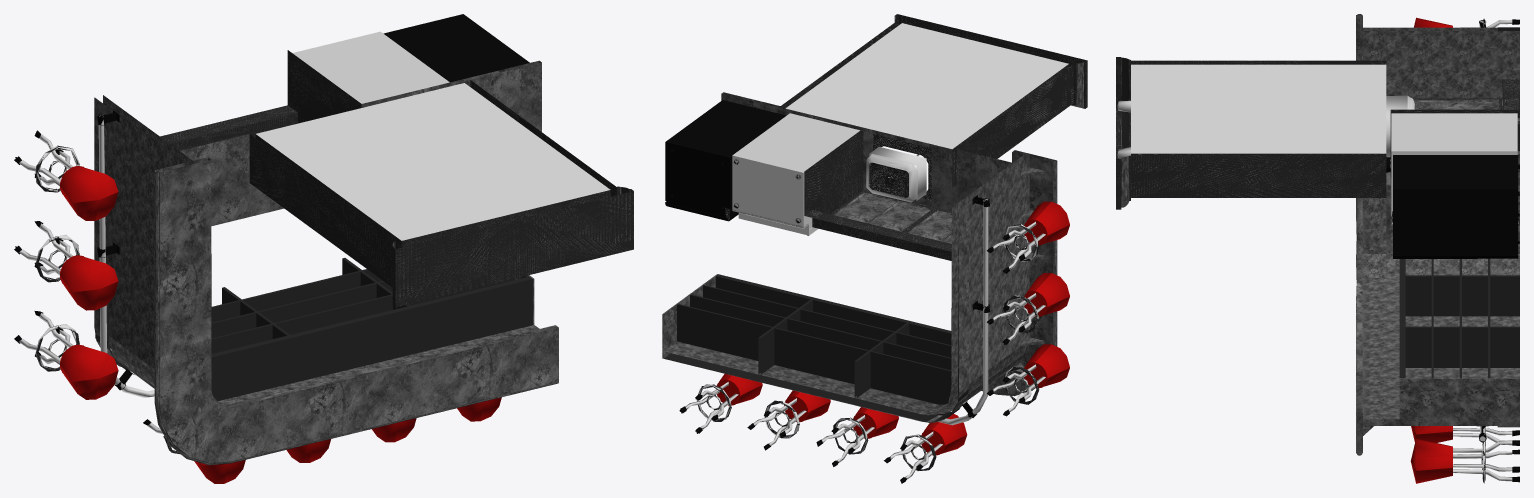
Rendered from CasinoBare.fbx.
3 views of the same model, side by side, from view 1: azimuth 30°, elevation 25°; view 2: azimuth 150°, elevation 25°; view 3: azimuth 270°, elevation 25° (orthographic). The views are drawn at different scales.
Parts seen in each view (by area): view 1: Material2.105; view 2: Material2.105; view 3: Material2.105.
Part boxes in pixels (bbox=[...]): Material2.105: bbox=[14, 14, 633, 483]; Material2.105: bbox=[662, 14, 1087, 483]; Material2.105: bbox=[1116, 14, 1519, 483].
Bounding box in the file's own units: 12076 × 9233 × 10709.
Materials: 39 (29 with a texture image).
